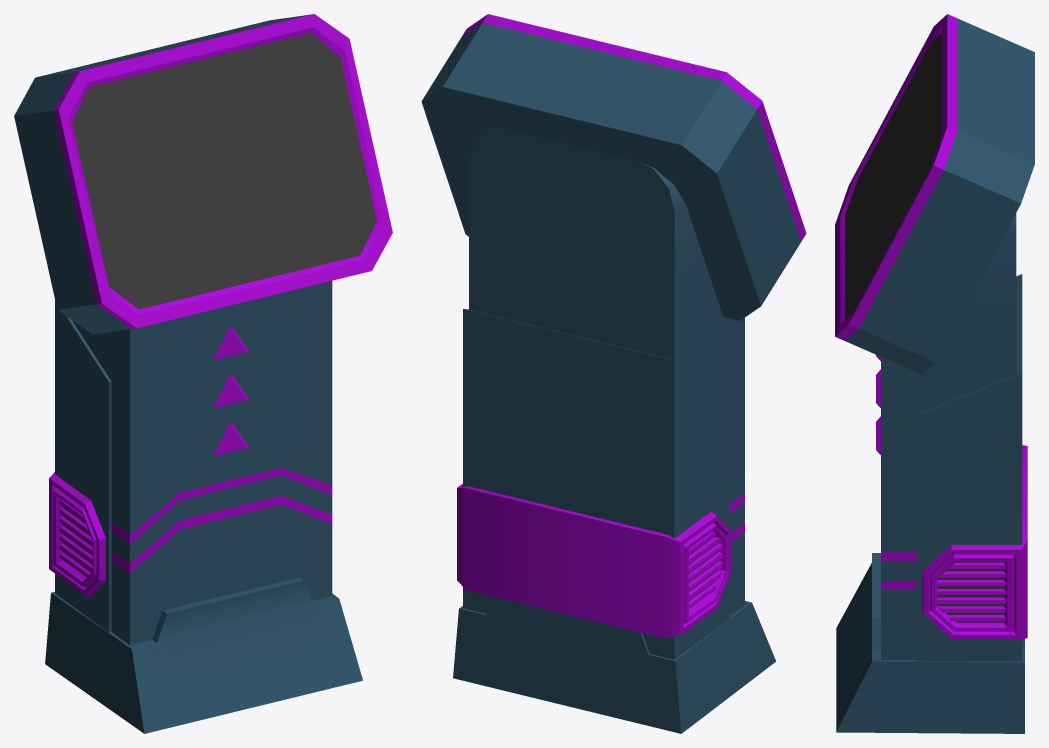
Rendered from totemest.glb.
The picture shows the model from 3 angles, left to right: view 1: azimuth 30°, elevation 25°; view 2: azimuth 150°, elevation 25°; view 3: azimuth 270°, elevation 25°; orthographic projection. The views are drawn at different scales.
Parts seen in each view (by area): view 1: Props_ComputerSmall; view 2: Props_ComputerSmall; view 3: Props_ComputerSmall.
Boxes of the visible parts, x1,y1,x2,y2 form: Props_ComputerSmall: (14, 14, 392, 733); Props_ComputerSmall: (421, 14, 806, 733); Props_ComputerSmall: (835, 14, 1034, 733).
Bounding box in the file's own units: 0.7512 × 1.54 × 0.4564.
